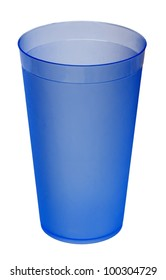plastic_bottle: (15, 19, 150, 245)
